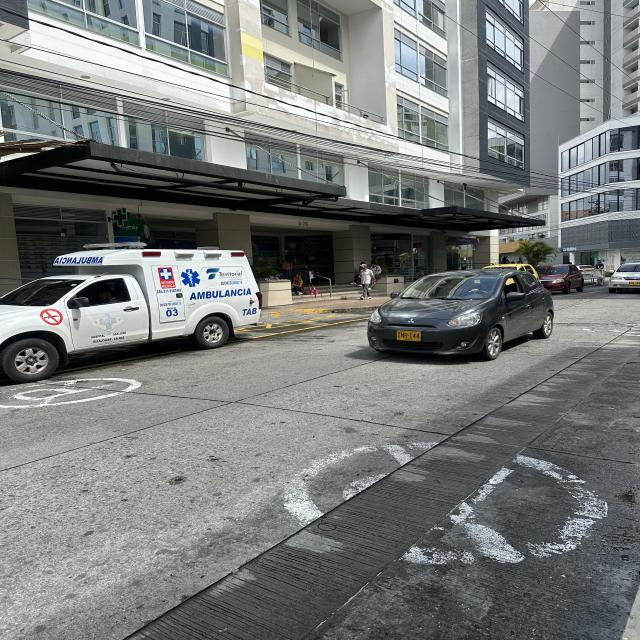number plate: (396, 330, 421, 341)
